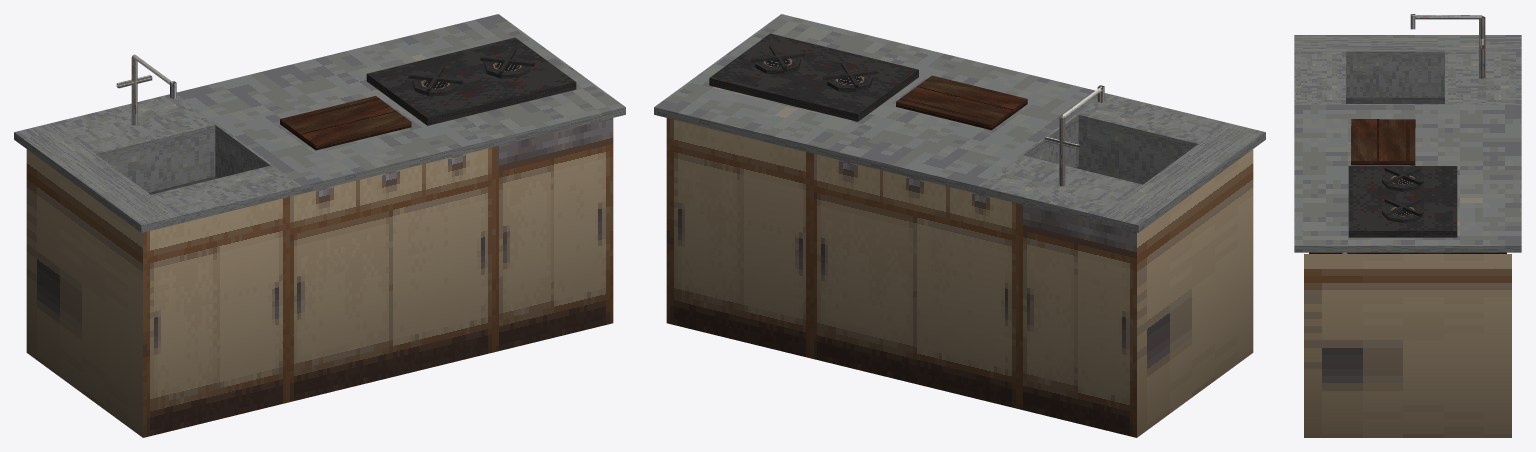
File: prop_kitchen_counter-0.glb
The picture shows the model from 3 angles, left to right: view 1: azimuth 30°, elevation 25°; view 2: azimuth 150°, elevation 25°; view 3: azimuth 270°, elevation 25°; orthographic projection. The views are drawn at different scales.
Parts seen in each view (by area): view 1: prop_kitchen_counter-0; view 2: prop_kitchen_counter-0; view 3: prop_kitchen_counter-0.
Boxes of the visible parts, bbox=[...] form: prop_kitchen_counter-0: bbox=[14, 14, 625, 437]; prop_kitchen_counter-0: bbox=[654, 14, 1265, 437]; prop_kitchen_counter-0: bbox=[1294, 14, 1521, 437].
Size of the model in its own units: 2.02 by 1.15 by 0.92.
5 materials, 5 textured.
